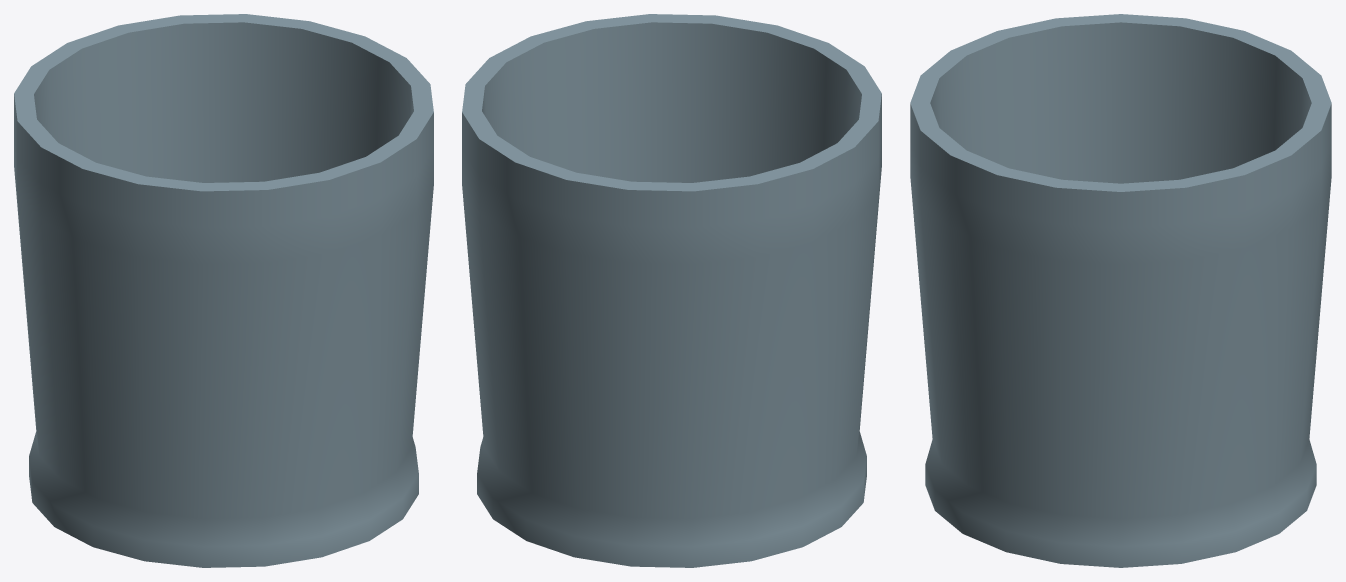
File: cup.fbx
The picture shows the model from 3 angles, left to right: view 1: azimuth 30°, elevation 25°; view 2: azimuth 150°, elevation 25°; view 3: azimuth 270°, elevation 25°; orthographic projection.
Parts seen in each view (by area): view 1: pCylinder1; view 2: pCylinder1; view 3: pCylinder1.
Part boxes in pixels (box(x1,y1,x2,y2)): pCylinder1: box(14, 14, 433, 567); pCylinder1: box(462, 14, 881, 567); pCylinder1: box(910, 14, 1331, 567).
Size of the model in its own units: 13.68 by 13.69 by 13.68.
1 material, 1 textured.
